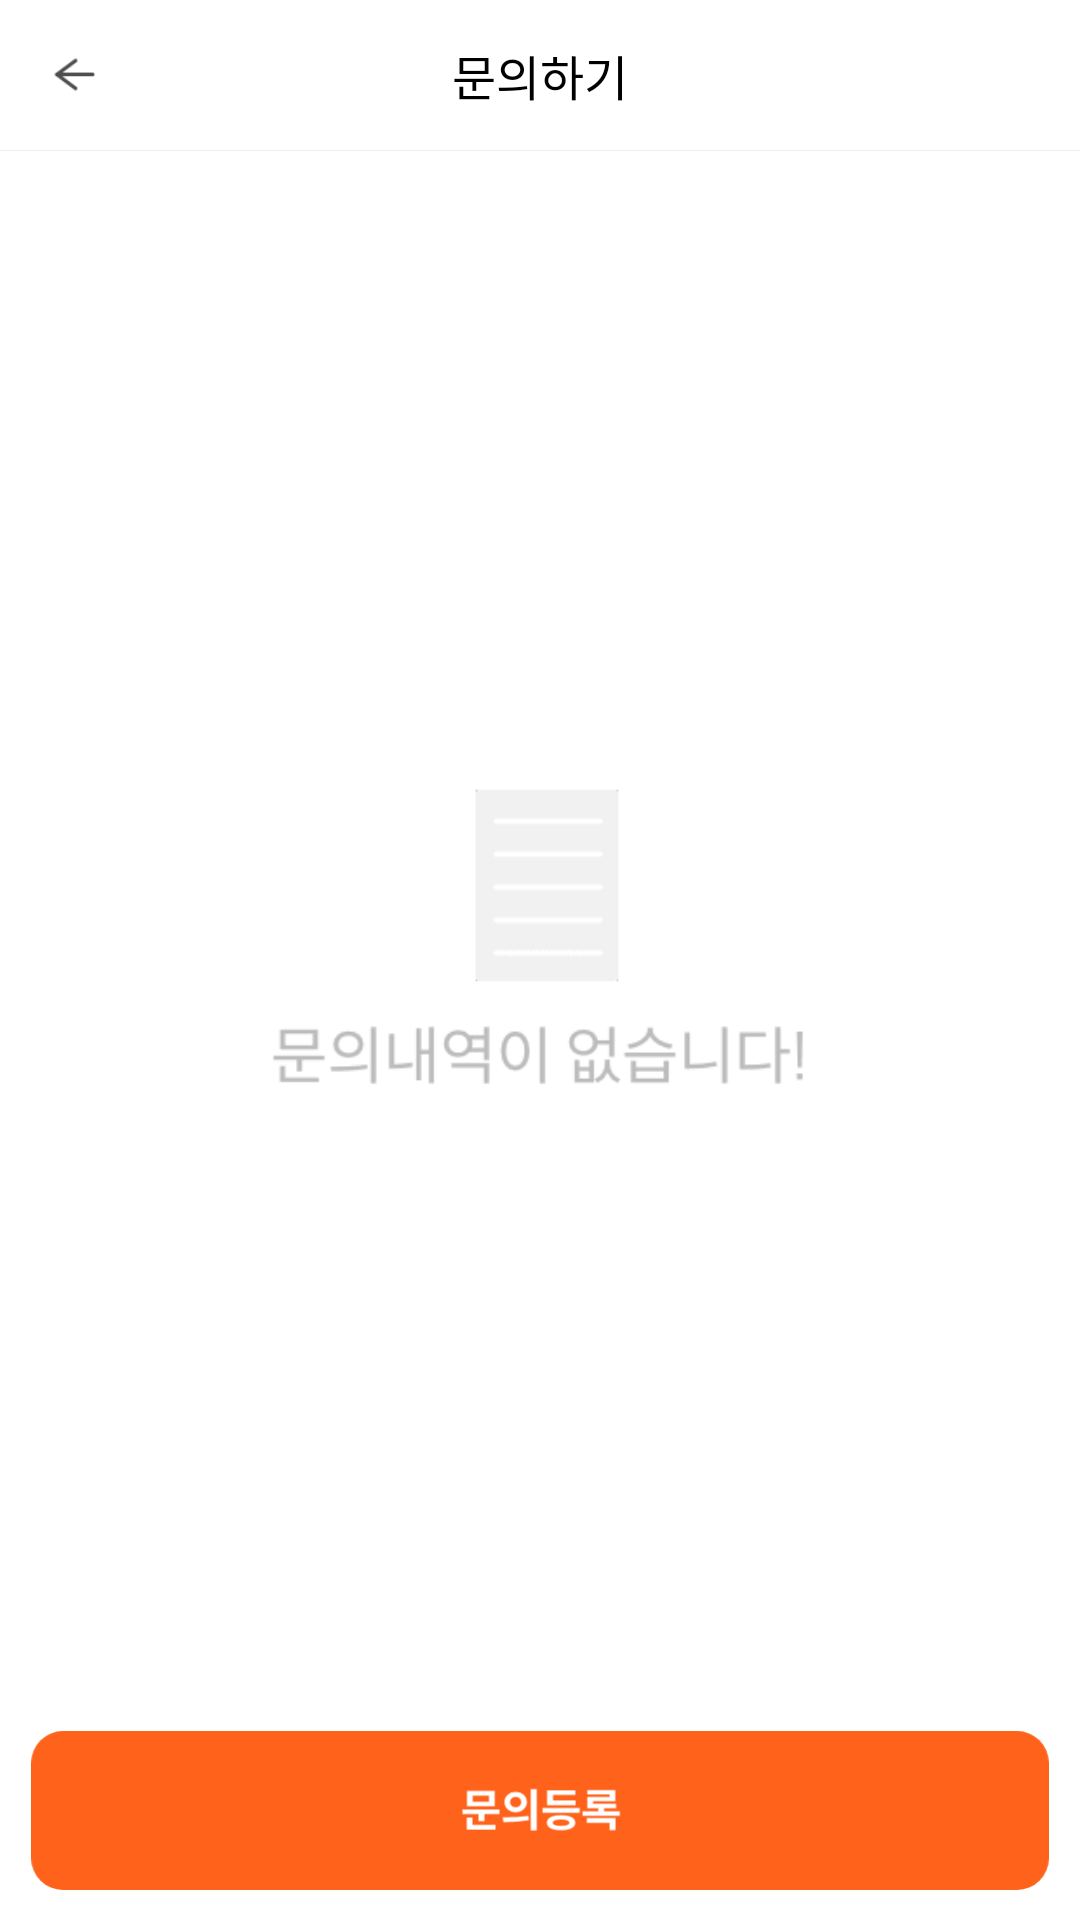

Screen size 1080 x 1920. Icon name, then its box in pixels as (x1, y1, x2, y2):
back: (54, 58, 95, 91)
